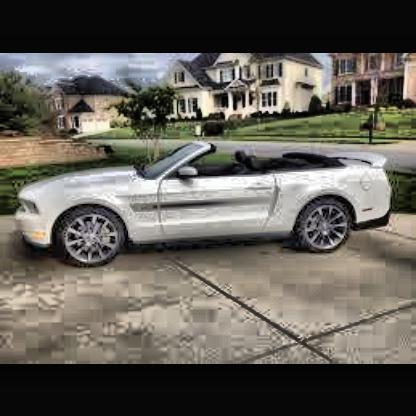Ford Mustang Convertible 2007: (14, 138, 397, 272)
